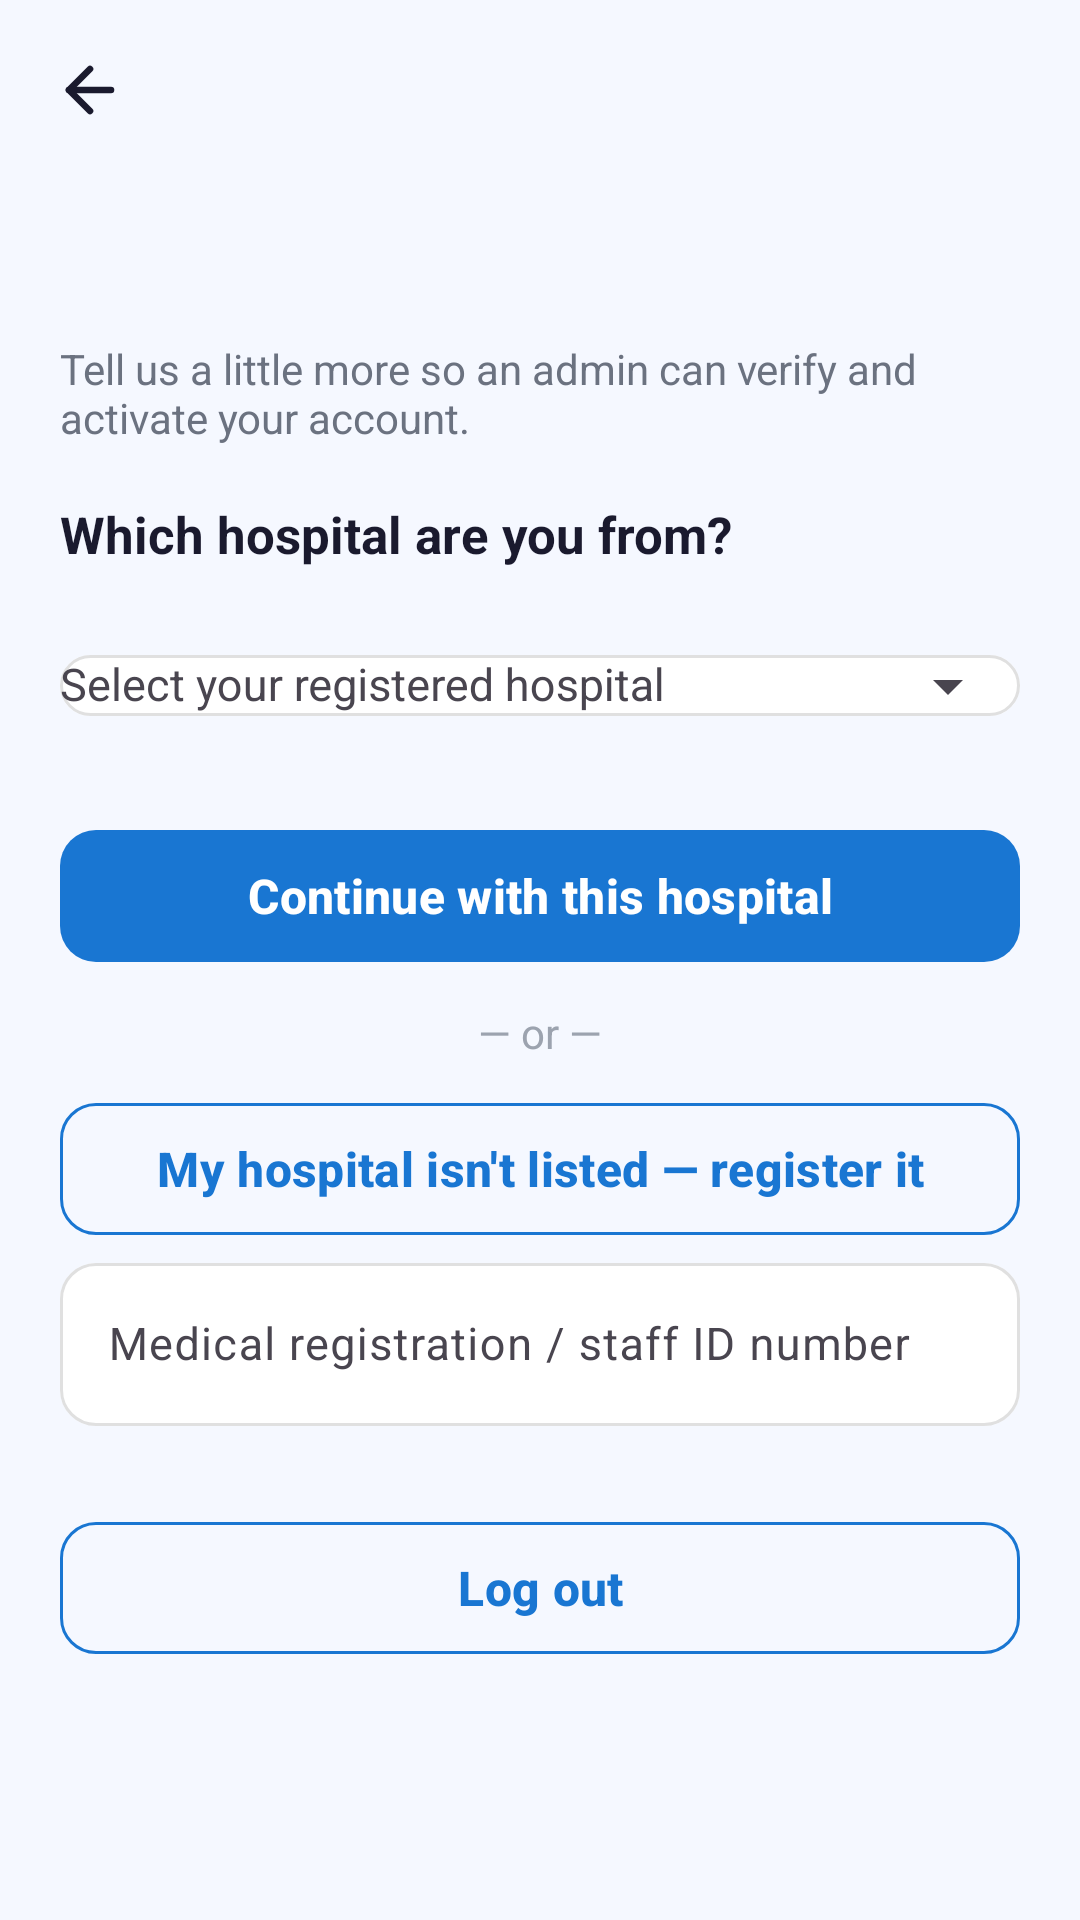

Point at icon controls on the screen. Image size 1080 × 1920, points as point (x, y).
Back: point (90, 90)
